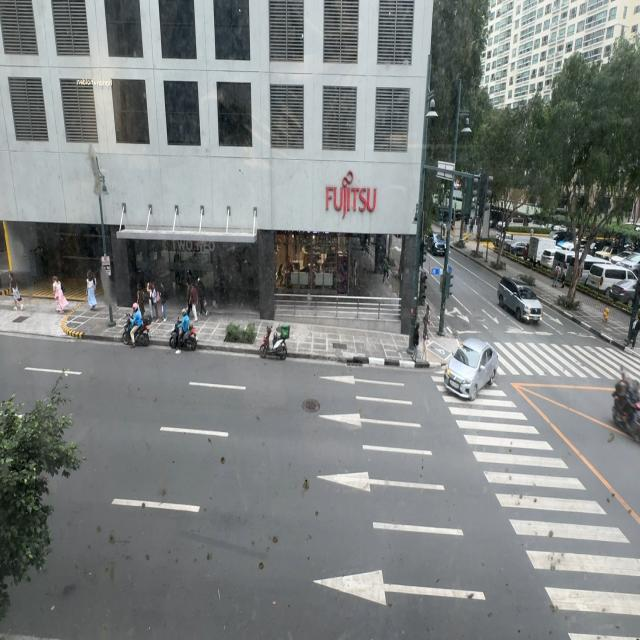pedestrain: (52, 277, 68, 314), (10, 274, 23, 312), (86, 270, 98, 310), (187, 281, 198, 321), (197, 279, 208, 319), (147, 281, 157, 322), (422, 306, 431, 351), (137, 284, 147, 322), (412, 322, 420, 362), (160, 284, 168, 323), (561, 262, 568, 286), (552, 264, 558, 287)
waiting: (626, 306, 640, 346)
